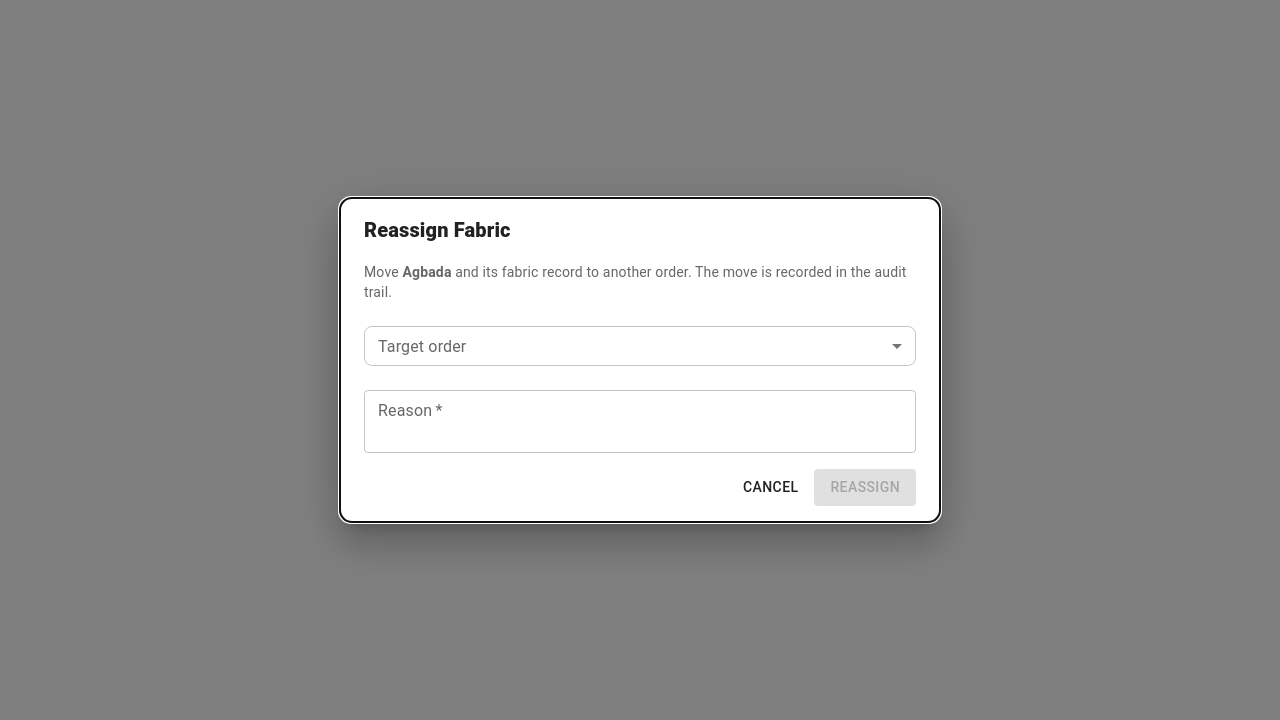
Test case: ReassignFabricDialog › excludes the current order from the selectable targets
This screenshot has width=1280, height=720.
Press the mouse on the dropdown at [640, 346], box [364, 326, 916, 366]
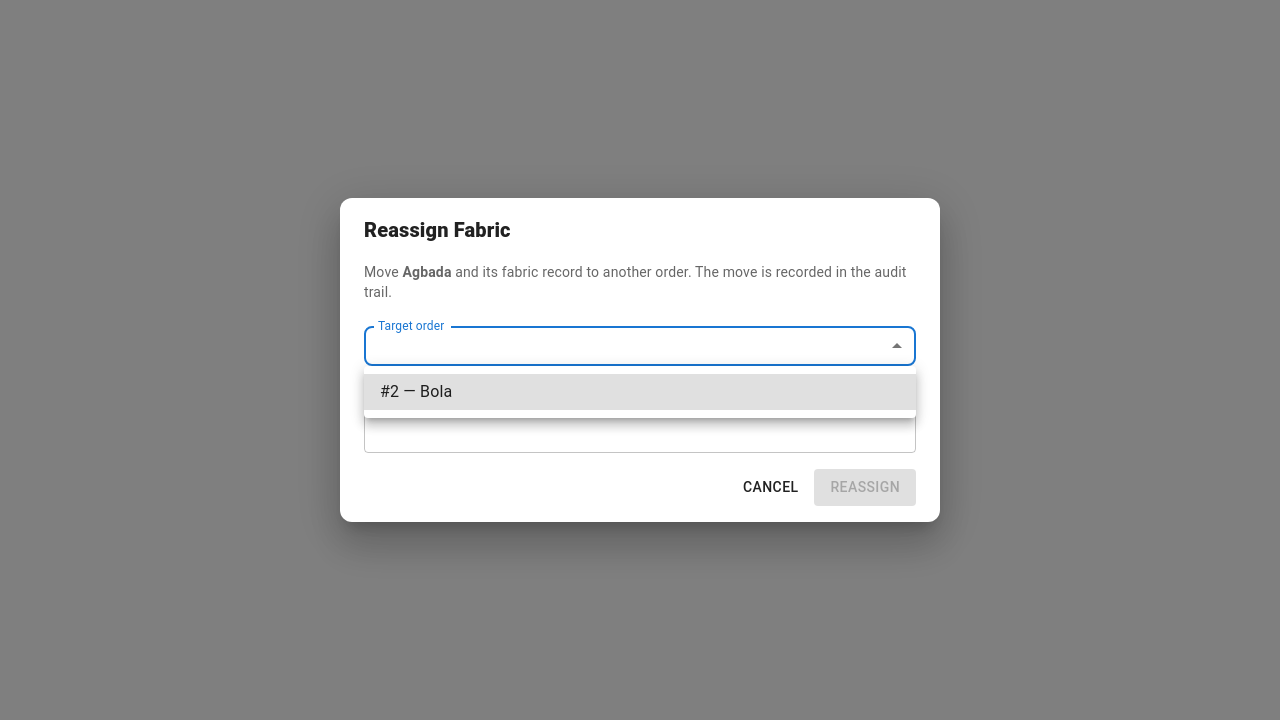
Check: the option "#2 — Bola" is shown, box [364, 374, 916, 410]
